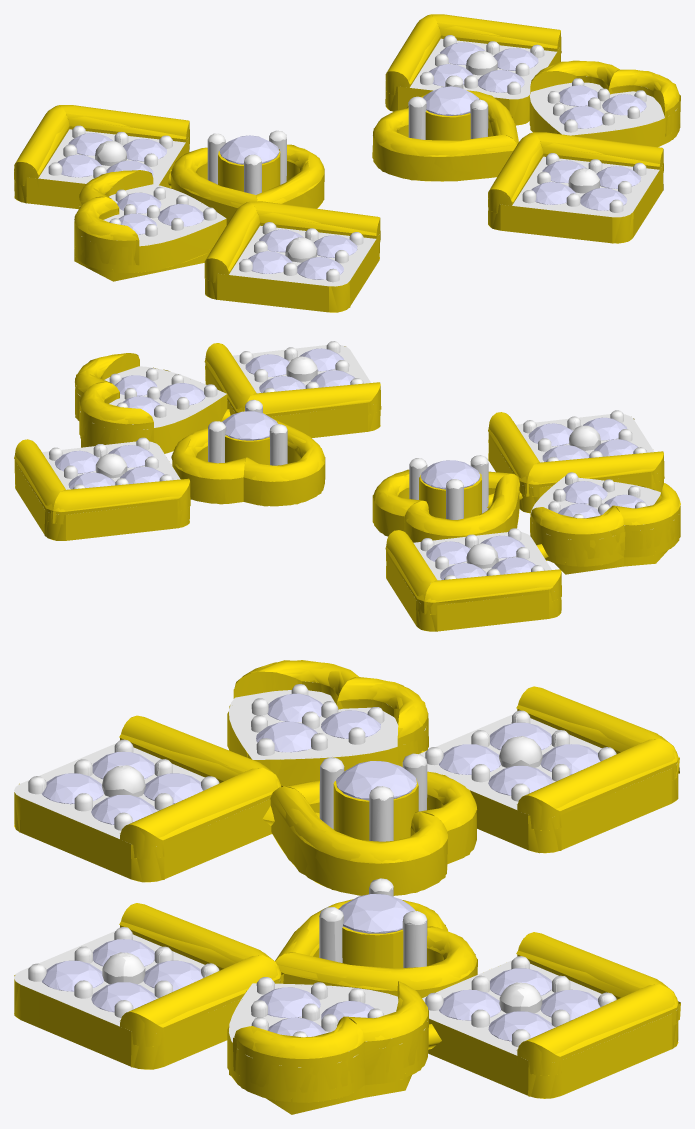
3 renders of one model, top to bottom at view 1: azimuth 30°, elevation 25°; view 2: azimuth 150°, elevation 25°; view 3: azimuth 270°, elevation 25°, orthographic. The views are drawn at different scales.
Visible parts, largest first — view 1: highPolyMesh, lowPolyMesh; view 2: highPolyMesh, lowPolyMesh; view 3: highPolyMesh, lowPolyMesh.
Part boxes in pixels (x1,y1,x2,y2): highPolyMesh: (14, 14, 679, 312); lowPolyMesh: (14, 14, 680, 312); highPolyMesh: (14, 341, 679, 631); lowPolyMesh: (14, 341, 680, 631); highPolyMesh: (14, 660, 678, 1114); lowPolyMesh: (14, 660, 680, 1114).
Bounding box in the file's own units: 0.0202 × 0.00206 × 0.0145.
